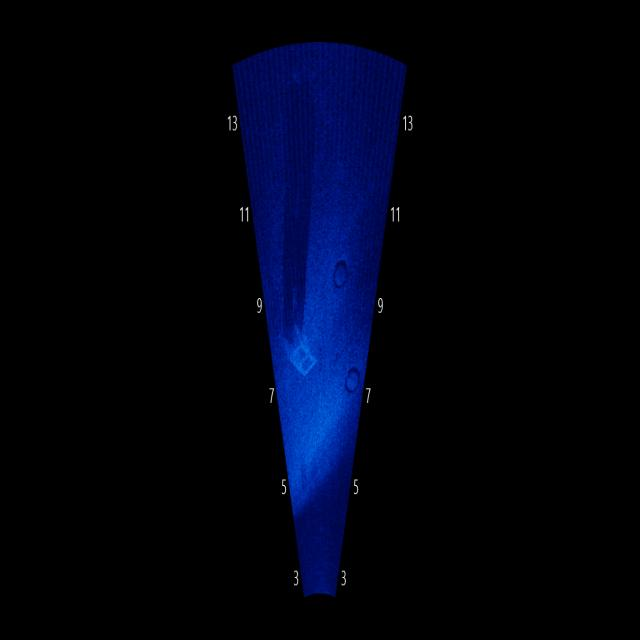square: (282, 303, 318, 381)
